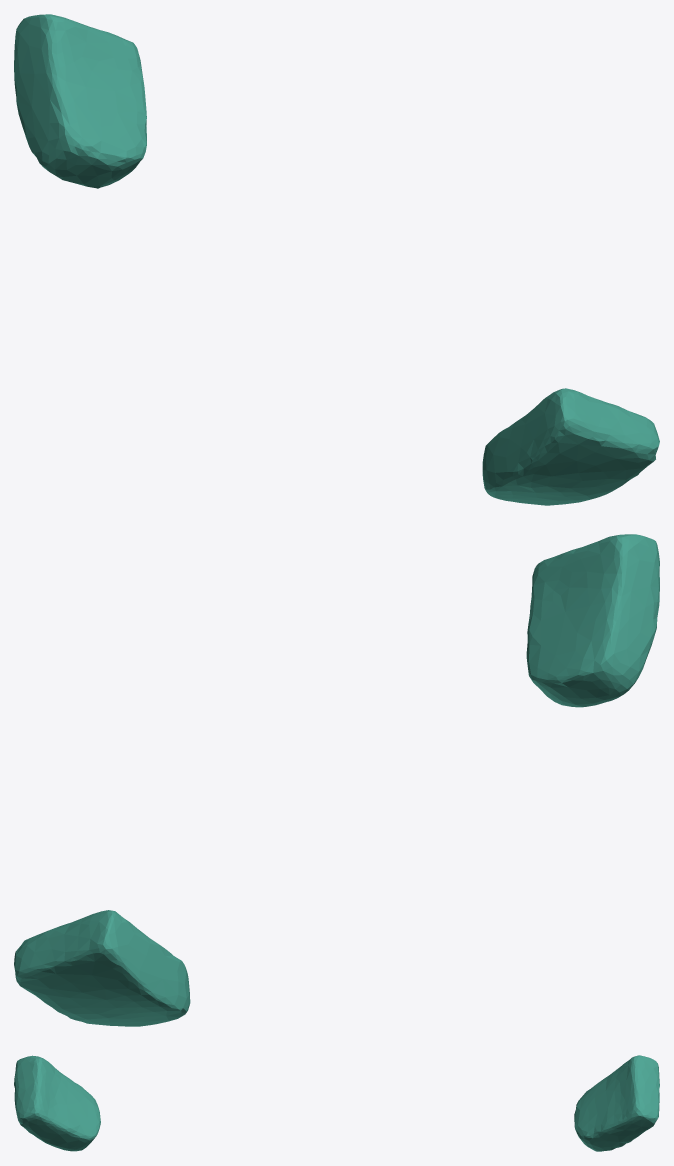
3 renders of one model, top to bottom at view 1: azimuth 30°, elevation 25°; view 2: azimuth 150°, elevation 25°; view 3: azimuth 270°, elevation 25°, orthographic. The views are drawn at different scales.
Parts seen in each view (by area): view 1: 889.obj; view 2: 889.obj; view 3: 889.obj.
Part boxes in pixels (bbox=[...]): 889.obj: bbox=[14, 14, 659, 505]; 889.obj: bbox=[14, 534, 659, 1026]; 889.obj: bbox=[14, 1055, 659, 1151].
Size of the model in its own units: 1045 by 1093 by 7443.
